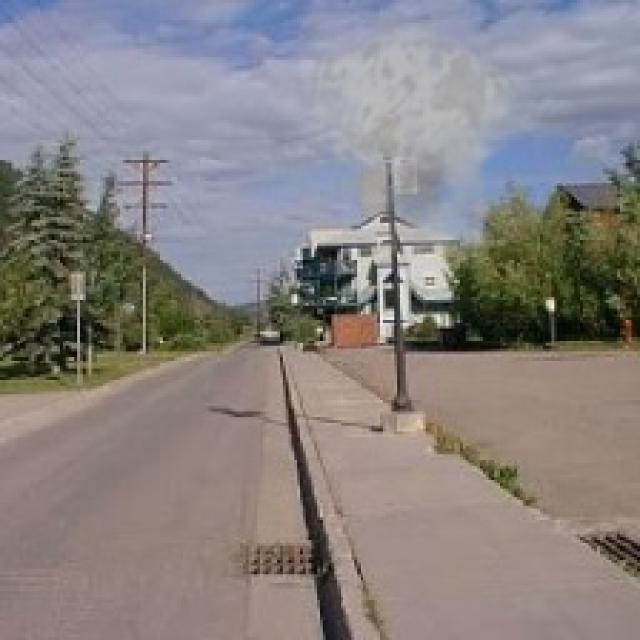Smoke: (297, 19, 537, 274)
